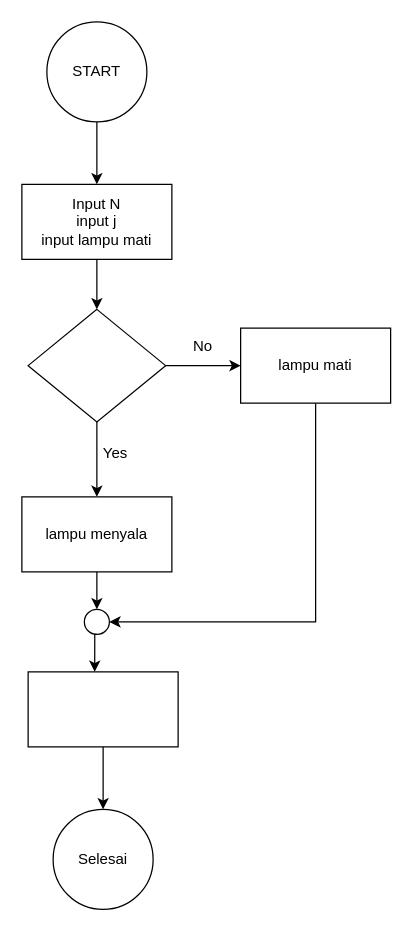
This 413x931 diagram has some shape labels left out. The box of each missing label's shape, as (x1, y1, x2, y2) in pixels:
n % i == 0: (27, 308, 166, 422)
Print output hasil: (27, 671, 178, 747)
